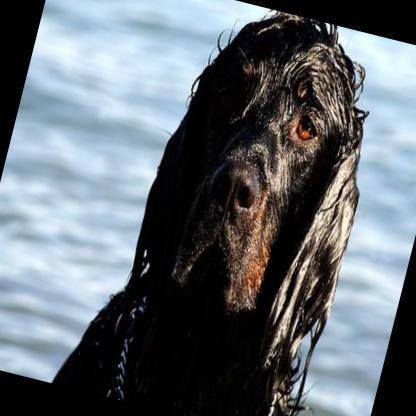Gordon_setter: (49, 0, 416, 416)
